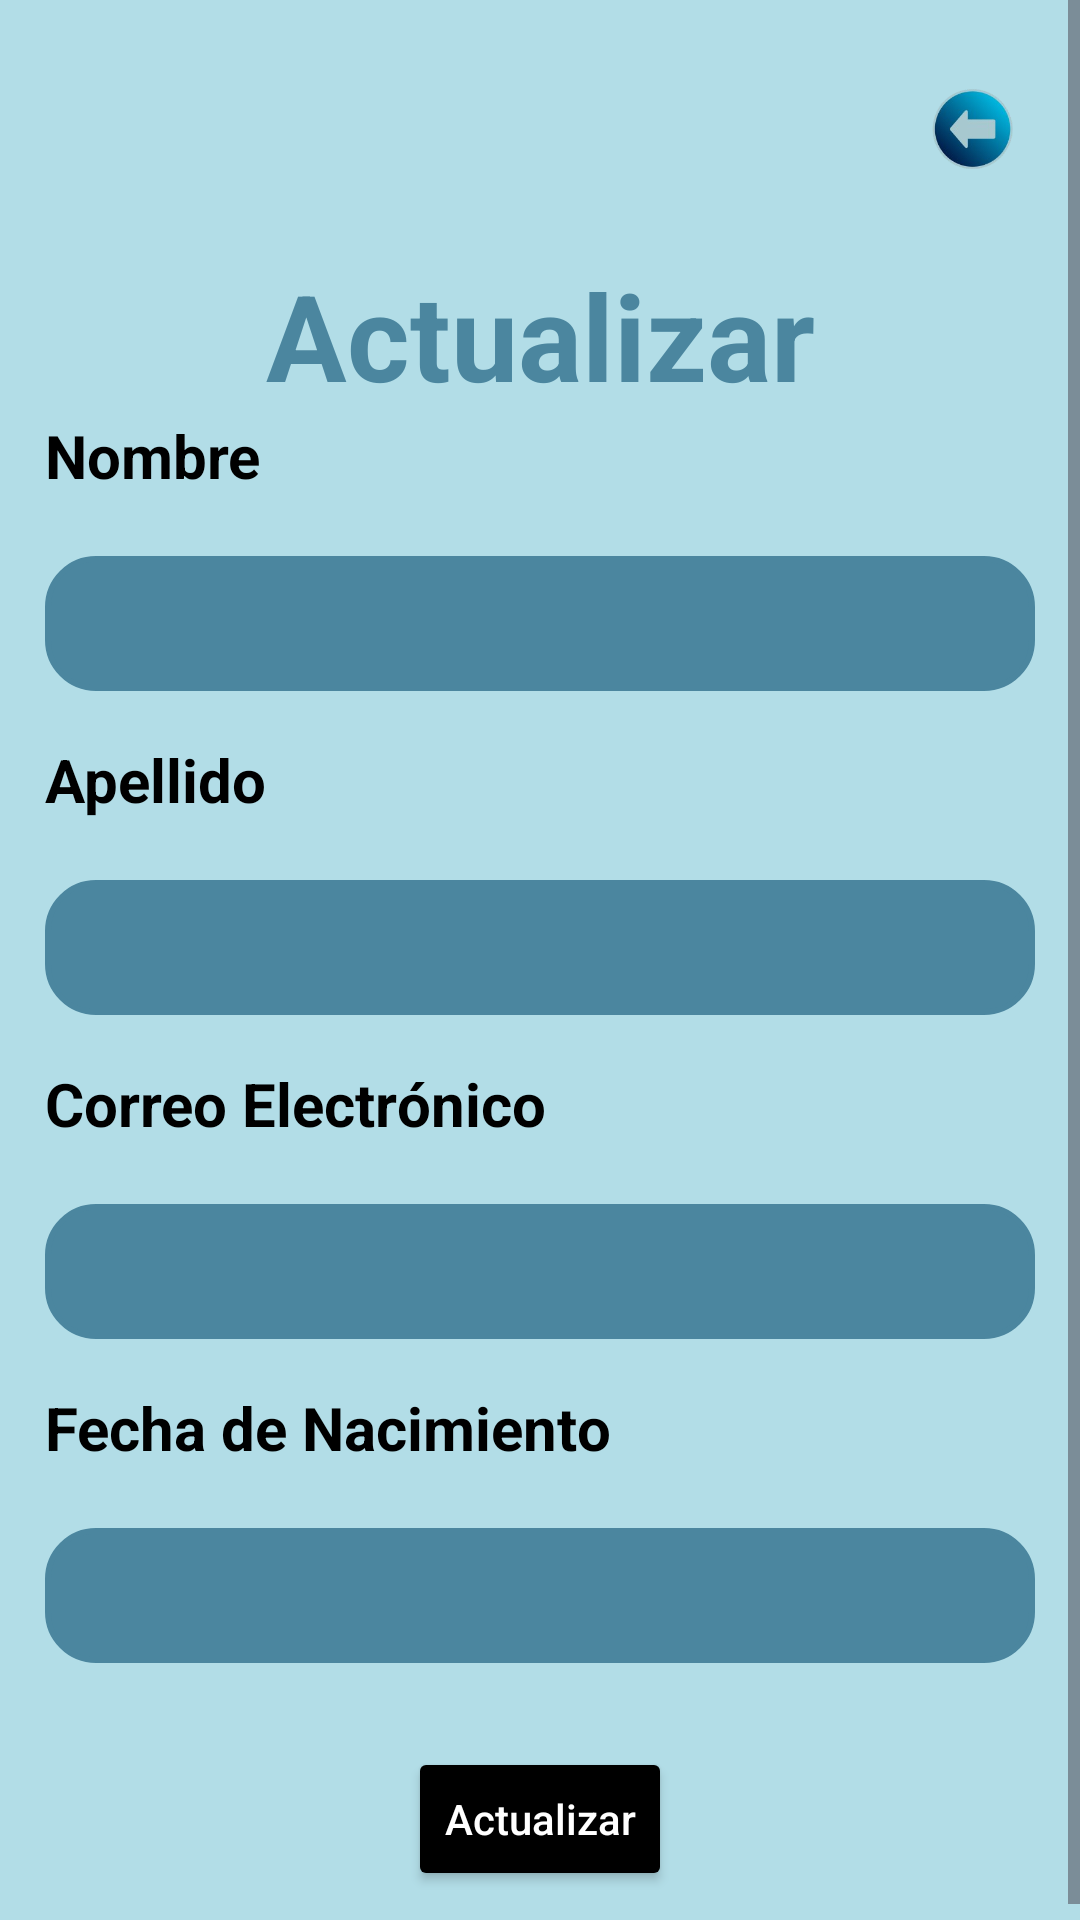

Point at icon controls on the screen. Image size 1080×1920, points as (x,y).
icono salida: (972,129)
